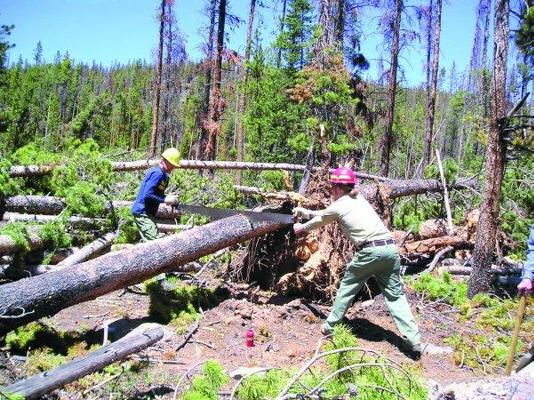person: (290, 167, 425, 359)
